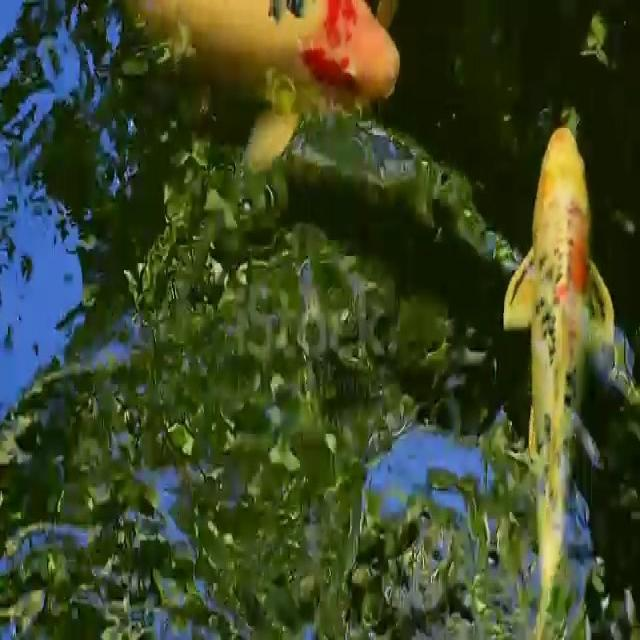fish: (503, 109, 612, 640), (138, 0, 415, 169)
